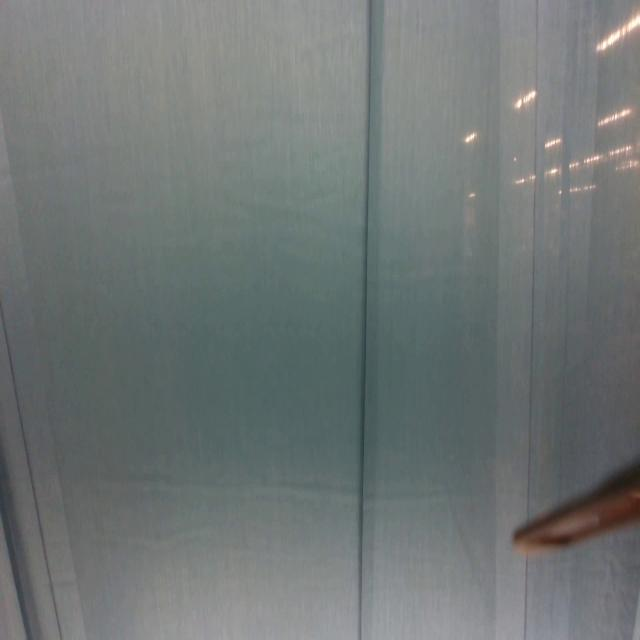crease: (498, 1, 562, 500), (0, 293, 68, 640), (355, 1, 377, 638), (497, 557, 573, 638)
